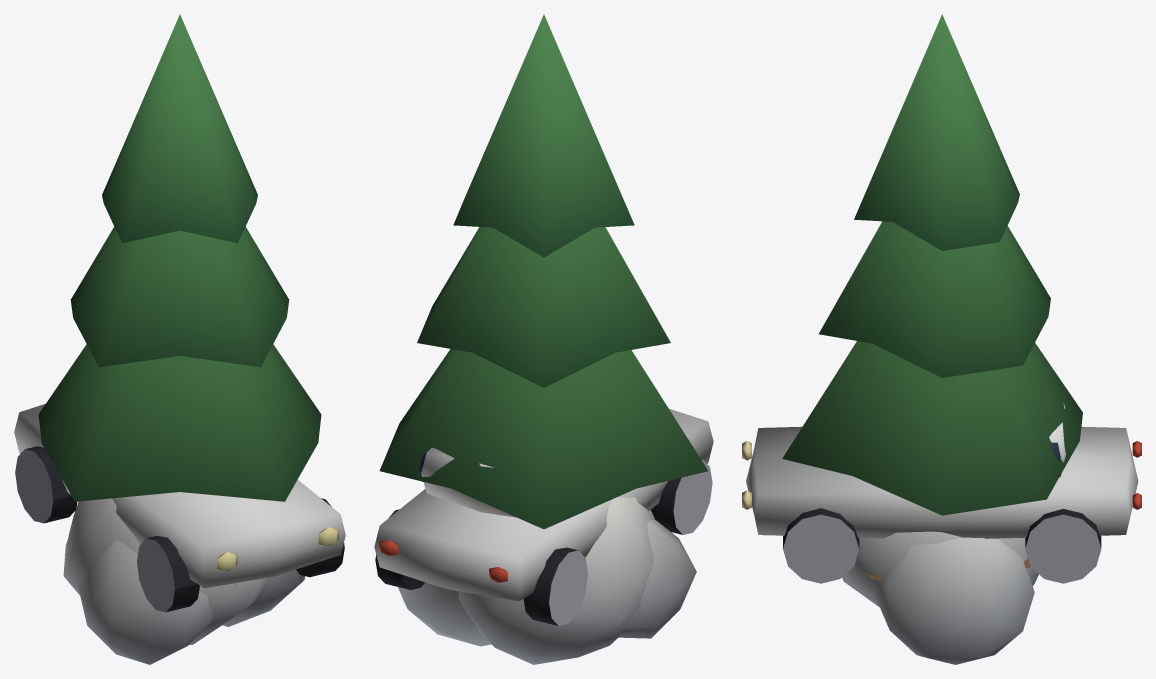
File: env.glb
3 views of the same model, side by side, from view 1: azimuth 30°, elevation 25°; view 2: azimuth 150°, elevation 25°; view 3: azimuth 270°, elevation 25° (orthographic). The views are drawn at different scales.
Parts seen in each view (by area): view 1: pine, car, canopy; view 2: pine, car, canopy; view 3: pine, car, canopy.
Boxes of the visible parts, x1,y1,x2,y2 form: pine: [38, 14, 321, 501]; car: [14, 404, 345, 612]; canopy: [63, 498, 305, 664]; pine: [379, 14, 707, 529]; car: [374, 408, 713, 625]; canopy: [398, 497, 696, 664]; pine: [782, 14, 1082, 515]; car: [742, 403, 1141, 583]; canopy: [842, 531, 1038, 664].
Size of the model in its own units: 2.81 by 6.1 by 3.57.
